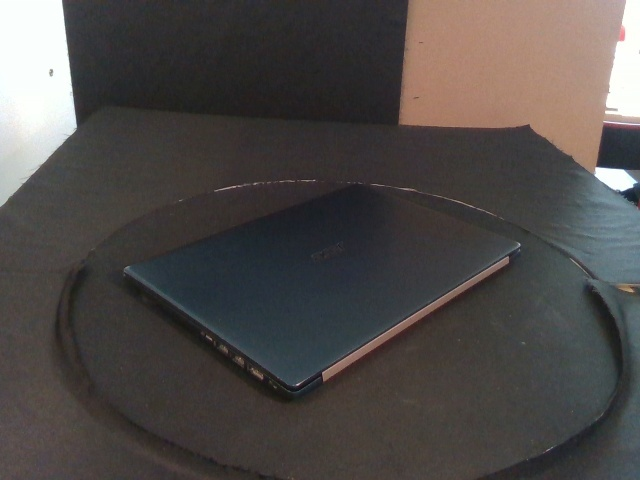laptop: (122, 183, 522, 399)
